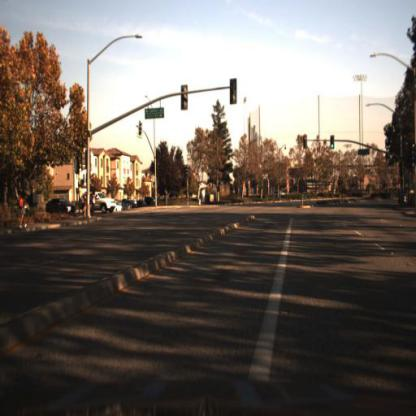car: (80, 190, 118, 217), (82, 190, 117, 213), (46, 197, 80, 215), (113, 198, 125, 216)
pedestrian: (19, 193, 29, 232), (82, 196, 90, 221), (90, 192, 97, 215)
trafficLight-Green: (329, 134, 337, 151), (330, 142, 336, 155)
trafficLight-RedLeft: (302, 135, 308, 148)
